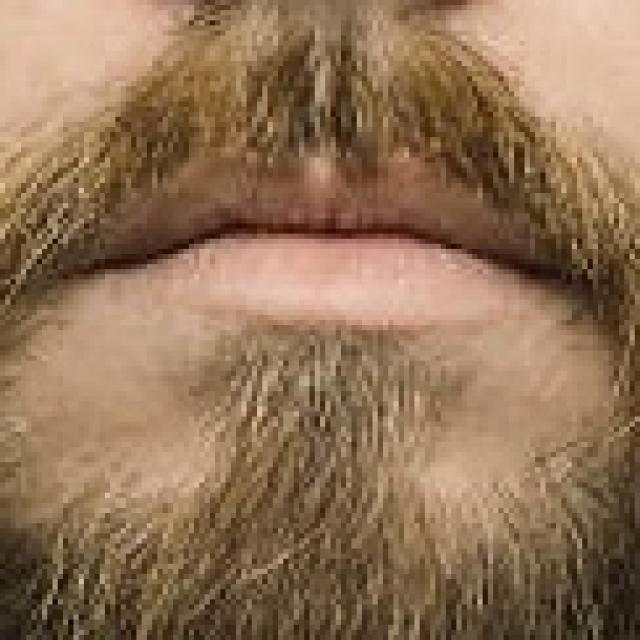closed-mouth: (57, 198, 598, 335)
